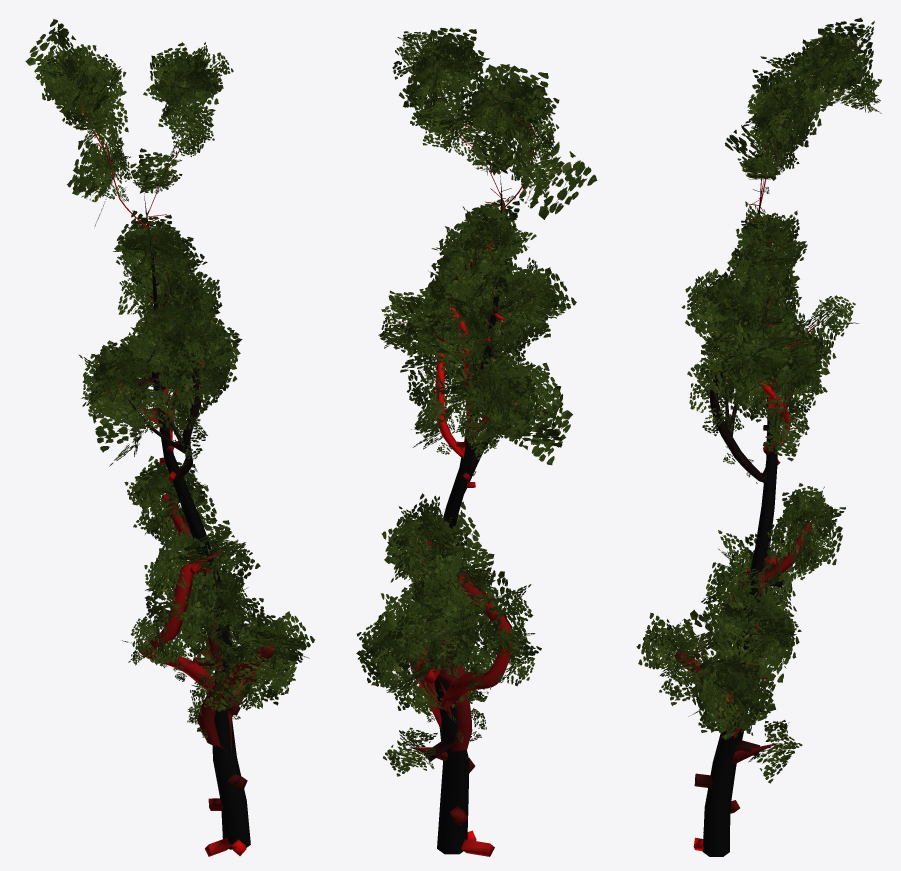
Rendered from Tree_8.fbx.
3 views of the same model, side by side, from view 1: azimuth 30°, elevation 25°; view 2: azimuth 150°, elevation 25°; view 3: azimuth 270°, elevation 25° (orthographic). The views are drawn at different scales.
Parts seen in each view (by area): view 1: Tree_11; view 2: Tree_11; view 3: Tree_11.
Part boxes in pixels (<box>): Tree_11: <box>25,19,314,856</box>; Tree_11: <box>356,27,597,856</box>; Tree_11: <box>636,18,881,856</box>.
Bounding box in the file's own units: 562 × 1856 × 542.
